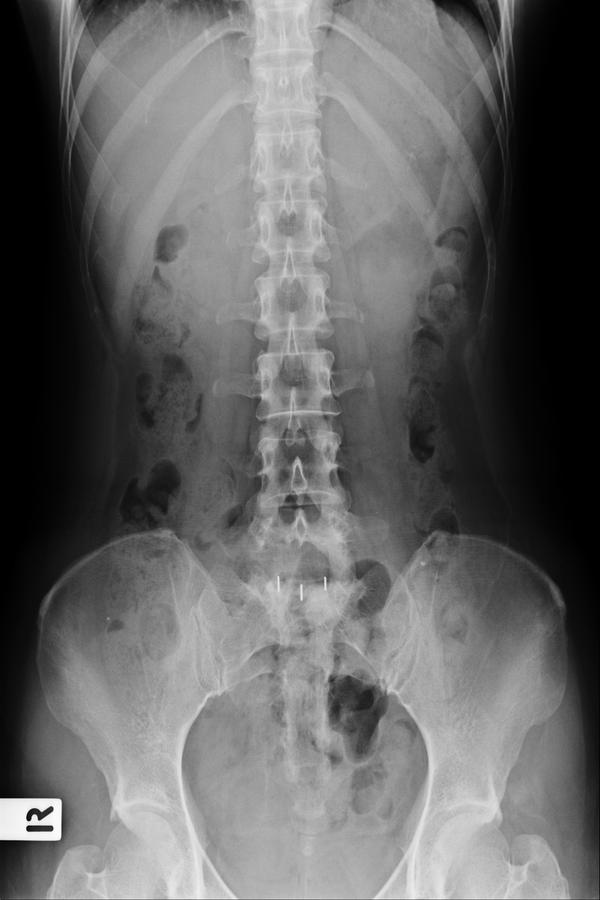lumbar scoliosis: (239, 7, 362, 582)
